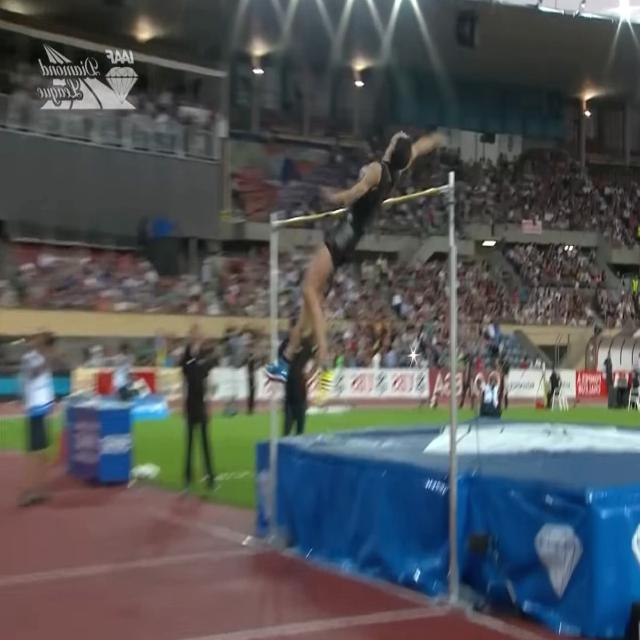jump: (261, 130, 445, 406)
